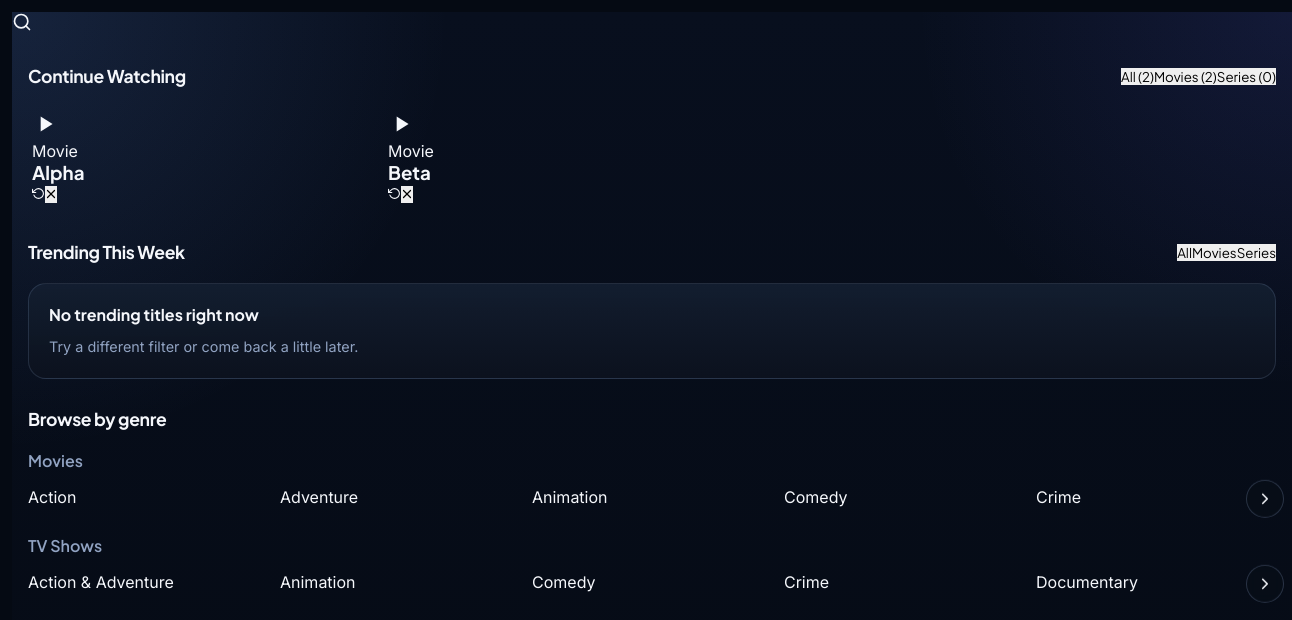
Test: Home continue watching actions › remove clears only that item and drops the card
Expected: the heading "Alpha" is shown, [32, 161, 84, 184]
Click the button named "Remove Alpha from Continue Watching" at (51, 194), box [45, 186, 57, 203]
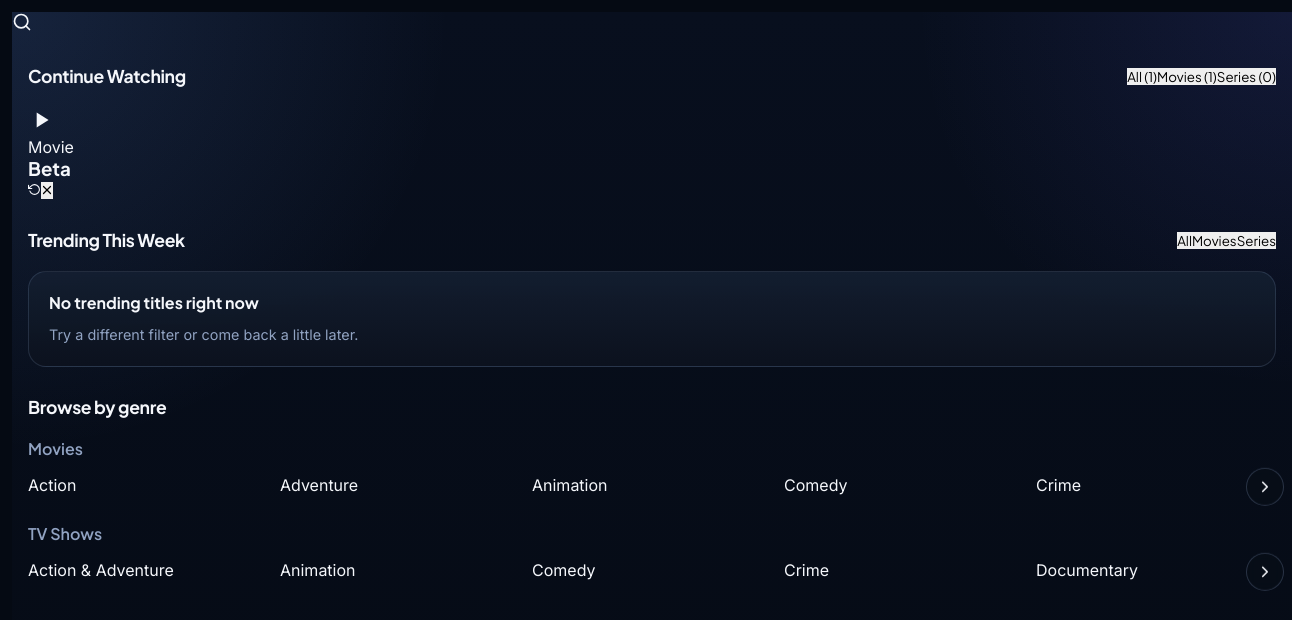
Expected: the heading "Beta" is shown, [28, 157, 71, 180]
Now the link "Alpha" is gone
